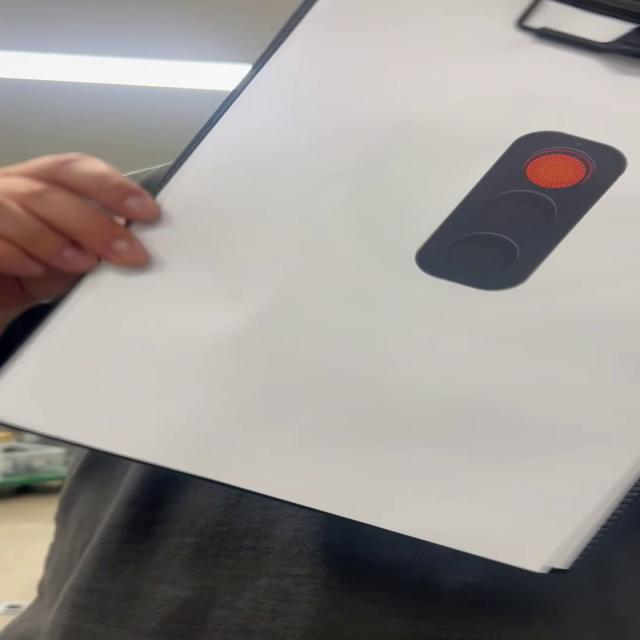red: (415, 129, 625, 295)
